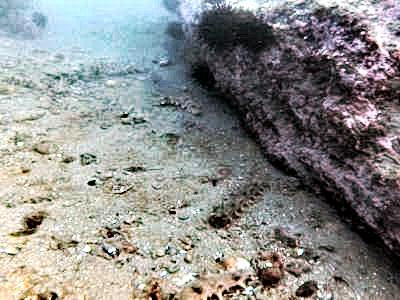urchin: (195, 4, 238, 47), (234, 10, 274, 54), (189, 63, 222, 90)
